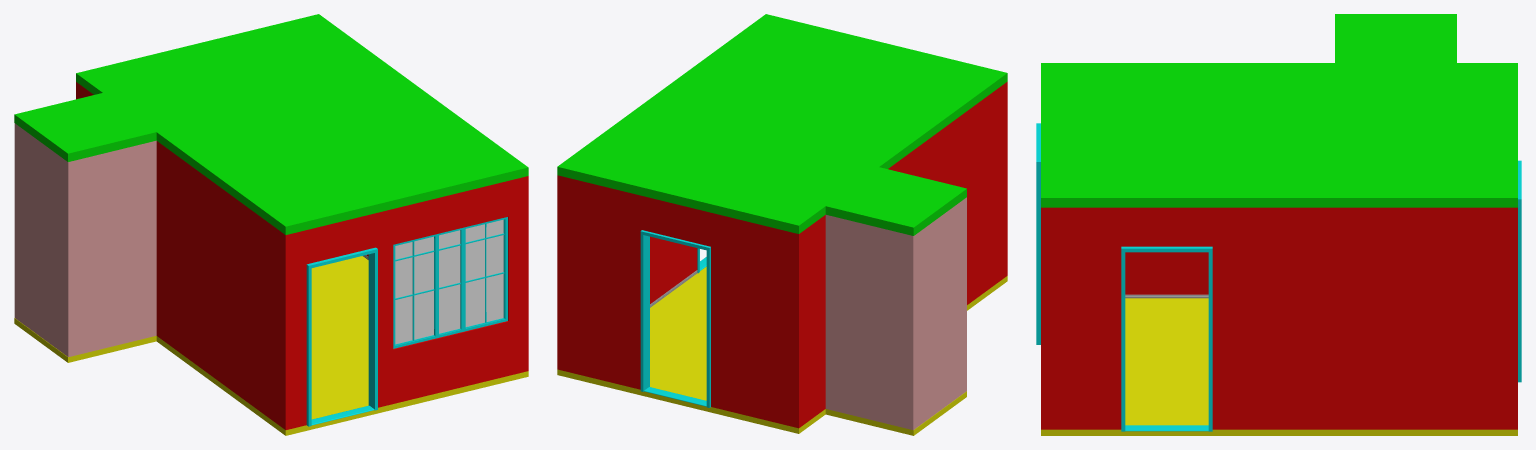
File: FloorPlan503_physics.fbx
3 renders of one model, left to right at view 1: azimuth 30°, elevation 25°; view 2: azimuth 150°, elevation 25°; view 3: azimuth 270°, elevation 25°, orthographic. The views are drawn at different scales.
Parts seen in each view (by area): view 1: FP503:Ceiling_1, FP503:Walls_1, FP503:Walls_2, FP503:Floor_1, FP503:WindowPane_1, FP503:Ceiling_2, FP503:WindowFrame_1, FP503:DoorFrame_1, FP503:Floor_2; view 2: FP503:Walls_1, FP503:Ceiling_1, FP503:Walls_2, FP503:Floor_1, FP503:Ceiling_2, FP503:DoorFrame_3, FP503:Floor_2; view 3: FP503:Walls_1, FP503:Ceiling_1, FP503:Floor_1, FP503:Ceiling_2, FP503:DoorFrame_2, FP503:DoorFrame_1, FP503:DoorFrame_3, FP503:Floorboard_2.
Boxes of the visible parts, x1,y1,x2,y2 form: FP503:Ceiling_1: (76,14,528,234); FP503:Walls_1: (76,82,528,429); FP503:Walls_2: (14,123,156,356); FP503:Floor_1: (156,256,528,435); FP503:WindowPane_1: (395,219,503,344); FP503:Ceiling_2: (14,93,156,161); FP503:WindowFrame_1: (393,217,507,348); FP503:DoorFrame_1: (306,247,377,426); FP503:Floor_2: (14,318,156,362); FP503:Walls_1: (557,81,1007,428); FP503:Ceiling_1: (557,14,1007,233); FP503:Walls_2: (825,197,966,430); FP503:Floor_1: (557,266,1007,433); FP503:Ceiling_2: (825,167,966,235); FP503:DoorFrame_3: (640,230,710,407); FP503:Floor_2: (825,391,966,435); FP503:Walls_1: (1041,207,1517,429); FP503:Ceiling_1: (1041,63,1517,207); FP503:Floor_1: (1041,298,1517,435); FP503:Ceiling_2: (1335,14,1456,62); FP503:DoorFrame_2: (1121,246,1212,431); FP503:DoorFrame_1: (1036,123,1040,344); FP503:DoorFrame_3: (1518,160,1521,382); FP503:Floorboard_2: (1125,425,1208,431).
Size of the model in its own units: 449 by 268 by 495.
